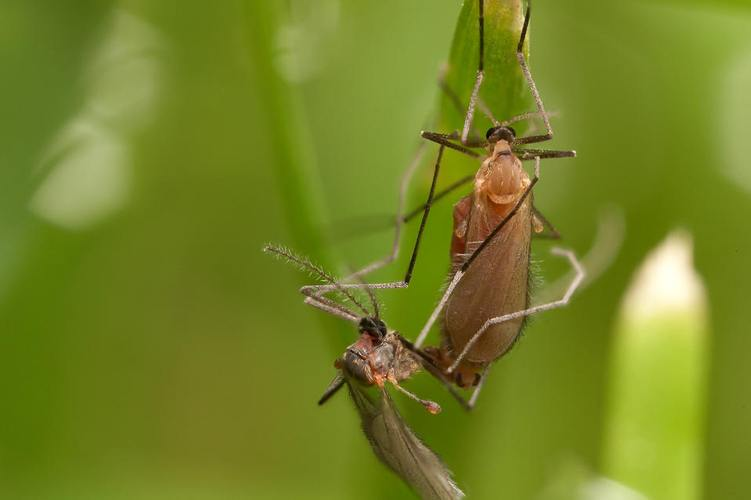Cecidomyiidae: (257, 228, 583, 491), (397, 1, 587, 374)
